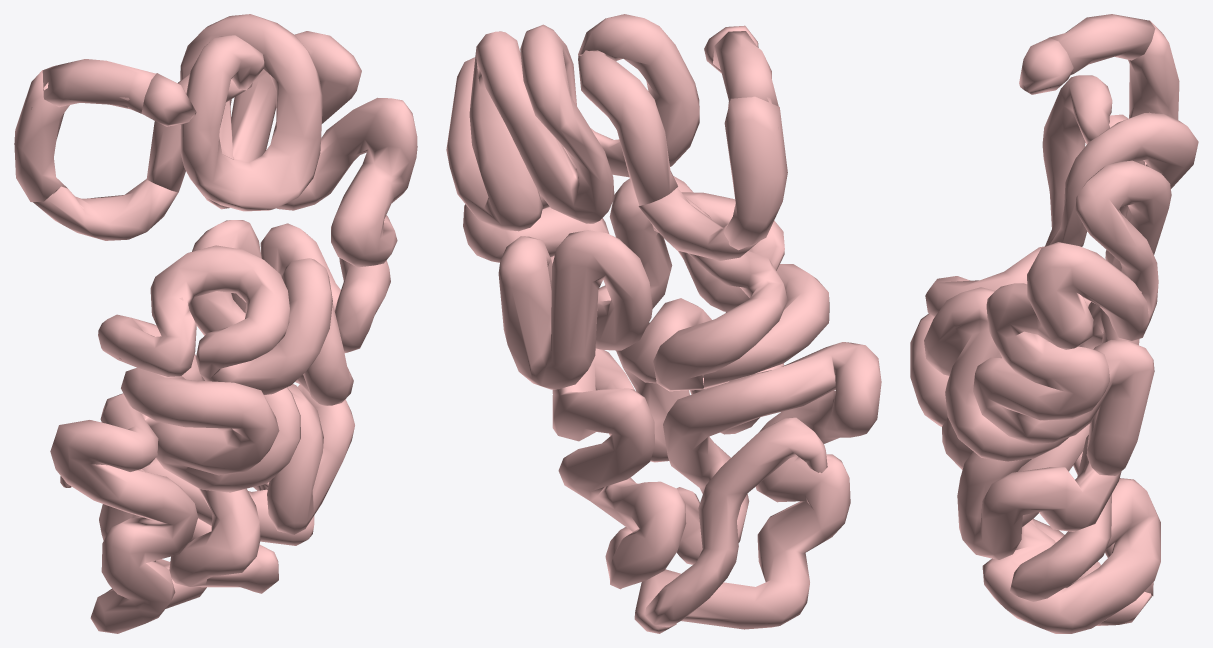
The model's file is vh_m_small_intestine-20.glb.
3 renders of one model, left to right at view 1: azimuth 30°, elevation 25°; view 2: azimuth 150°, elevation 25°; view 3: azimuth 270°, elevation 25°, orthographic. The views are drawn at different scales.
Visible parts, largest first — view 1: VH_M_jejunum, VH_M_ileum, VH_M_duodenum_horizonal, VH_M_duodenum_superior, VH_M_duodenum_descending, VH_M_duodenum_ascending, VH_M_duodenal_ampulla, VH_M_ileum_terminal; view 2: VH_M_jejunum, VH_M_ileum, VH_M_ileum_terminal, VH_M_duodenum_descending, VH_M_duodenum_ascending, VH_M_duodenum_horizonal, VH_M_duodenum_superior; view 3: VH_M_jejunum, VH_M_ileum, VH_M_duodenum_superior, VH_M_duodenum_descending, VH_M_duodenal_ampulla.
Part boxes in pixels (bbox=[...]): VH_M_jejunum: bbox=[98, 14, 417, 405]; VH_M_ileum: bbox=[50, 367, 354, 633]; VH_M_duodenum_horizonal: bbox=[33, 179, 177, 240]; VH_M_duodenum_superior: bbox=[42, 59, 155, 113]; VH_M_duodenum_descending: bbox=[14, 70, 69, 202]; VH_M_duodenum_ascending: bbox=[146, 74, 252, 192]; VH_M_duodenal_ampulla: bbox=[141, 73, 196, 126]; VH_M_ileum_terminal: bbox=[60, 469, 155, 561]; VH_M_jejunum: bbox=[446, 14, 787, 391]; VH_M_ileum: bbox=[552, 264, 881, 633]; VH_M_ileum_terminal: bbox=[645, 417, 827, 627]; VH_M_duodenum_descending: bbox=[723, 96, 787, 250]; VH_M_duodenum_ascending: bbox=[578, 50, 677, 205]; VH_M_duodenum_horizonal: bbox=[638, 187, 759, 260]; VH_M_duodenum_superior: bbox=[713, 31, 778, 107]; VH_M_jejunum: bbox=[924, 75, 1198, 475]; VH_M_ileum: bbox=[910, 313, 1160, 633]; VH_M_duodenum_superior: bbox=[1049, 14, 1155, 75]; VH_M_duodenum_descending: bbox=[1128, 20, 1179, 119]; VH_M_duodenal_ampulla: bbox=[1019, 38, 1073, 94].
Size of the model in its own units: 0.1883 by 0.2651 by 0.1224.
